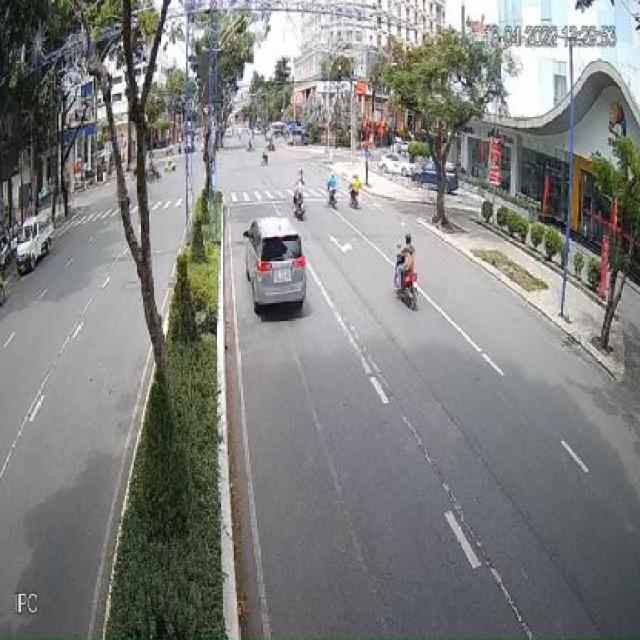car: (242, 215, 308, 316)
motorbike: (395, 234, 422, 313), (292, 186, 306, 222), (326, 173, 337, 210), (349, 173, 360, 208)
